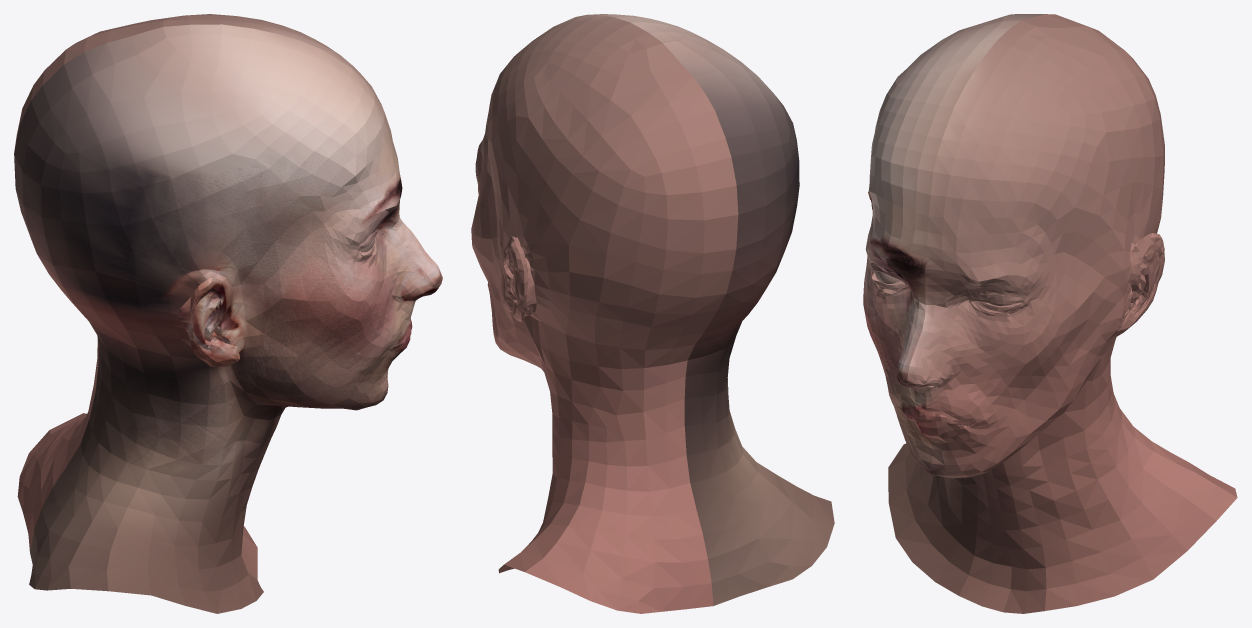
Rendered from bald.obj.
3 views of the same model, side by side, from view 1: azimuth 30°, elevation 25°; view 2: azimuth 150°, elevation 25°; view 3: azimuth 270°, elevation 25° (orthographic). The views are drawn at different scales.
Bounding box in the file's own units: 0.2177 × 0.3238 × 0.1987.
1 material, 1 textured.
